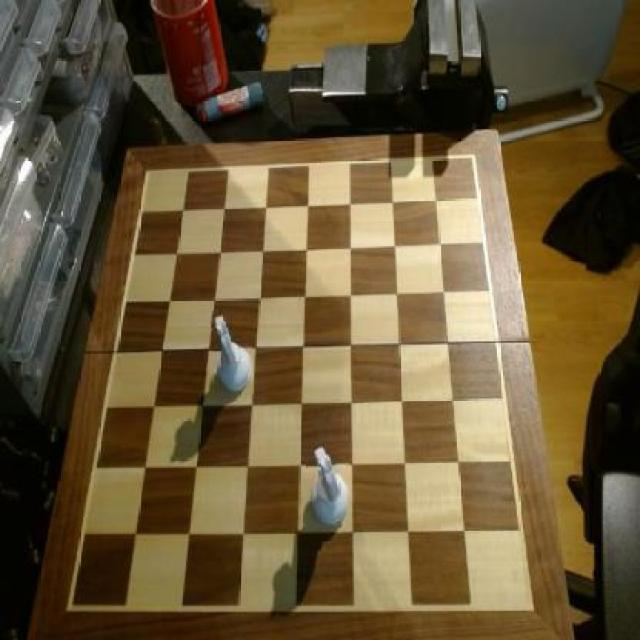white-king: (306, 442, 351, 530), (209, 309, 253, 396)
